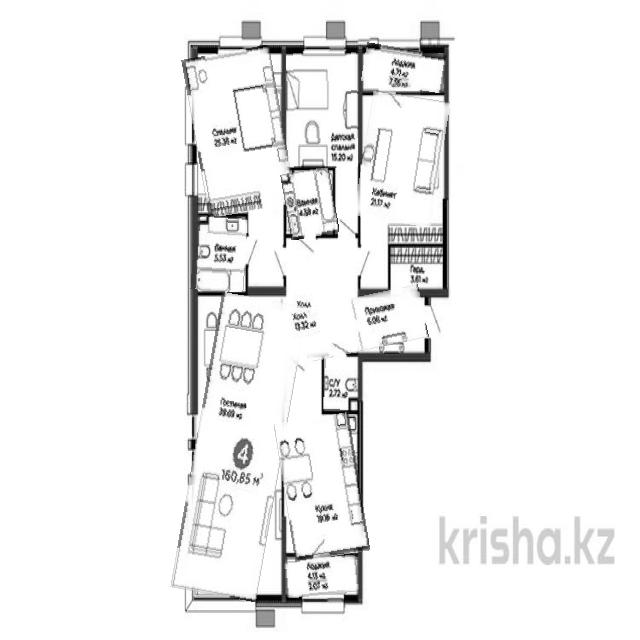balcony: (362, 45, 448, 90), (285, 556, 359, 597)
bathroom: (192, 215, 247, 292), (283, 168, 336, 239), (324, 355, 357, 411)
hallway: (288, 292, 428, 358)
kitchen: (279, 415, 365, 560)
living_room: (183, 295, 294, 599), (188, 48, 290, 215), (358, 93, 446, 224), (286, 51, 358, 168)
